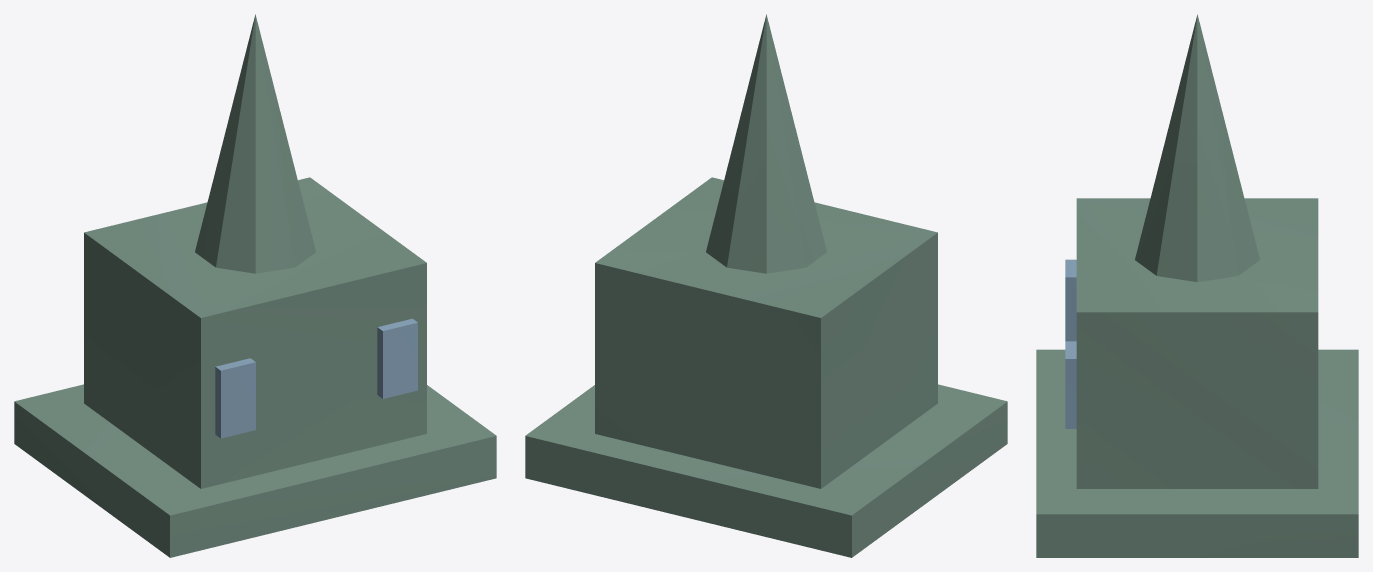
Rendered from monument-03.glb.
The picture shows the model from 3 angles, left to right: view 1: azimuth 30°, elevation 25°; view 2: azimuth 150°, elevation 25°; view 3: azimuth 270°, elevation 25°; orthographic projection. The views are drawn at different scales.
Parts seen in each view (by area): view 1: world; view 2: world; view 3: world.
Boxes of the visible parts, x1,y1,x2,y2 form: world: [14, 14, 496, 557]; world: [525, 14, 1007, 557]; world: [1036, 14, 1358, 557].
Size of the model in its own units: 1.21 by 1.58 by 1.
